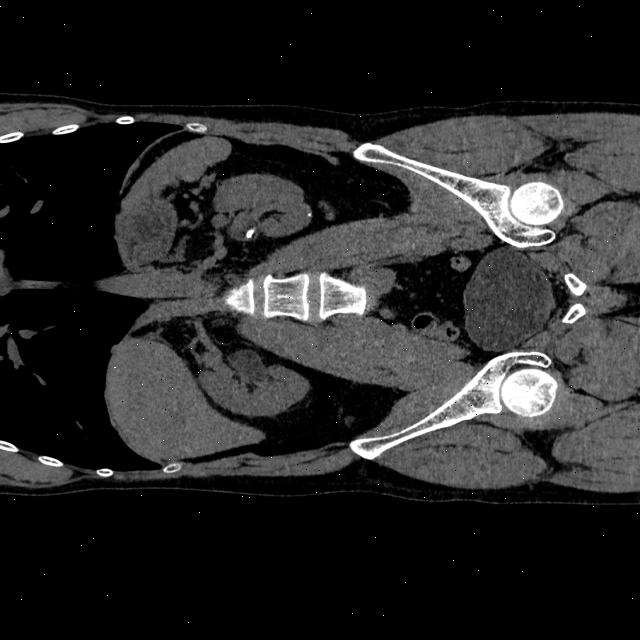kidneystone: (246, 228, 255, 238)
